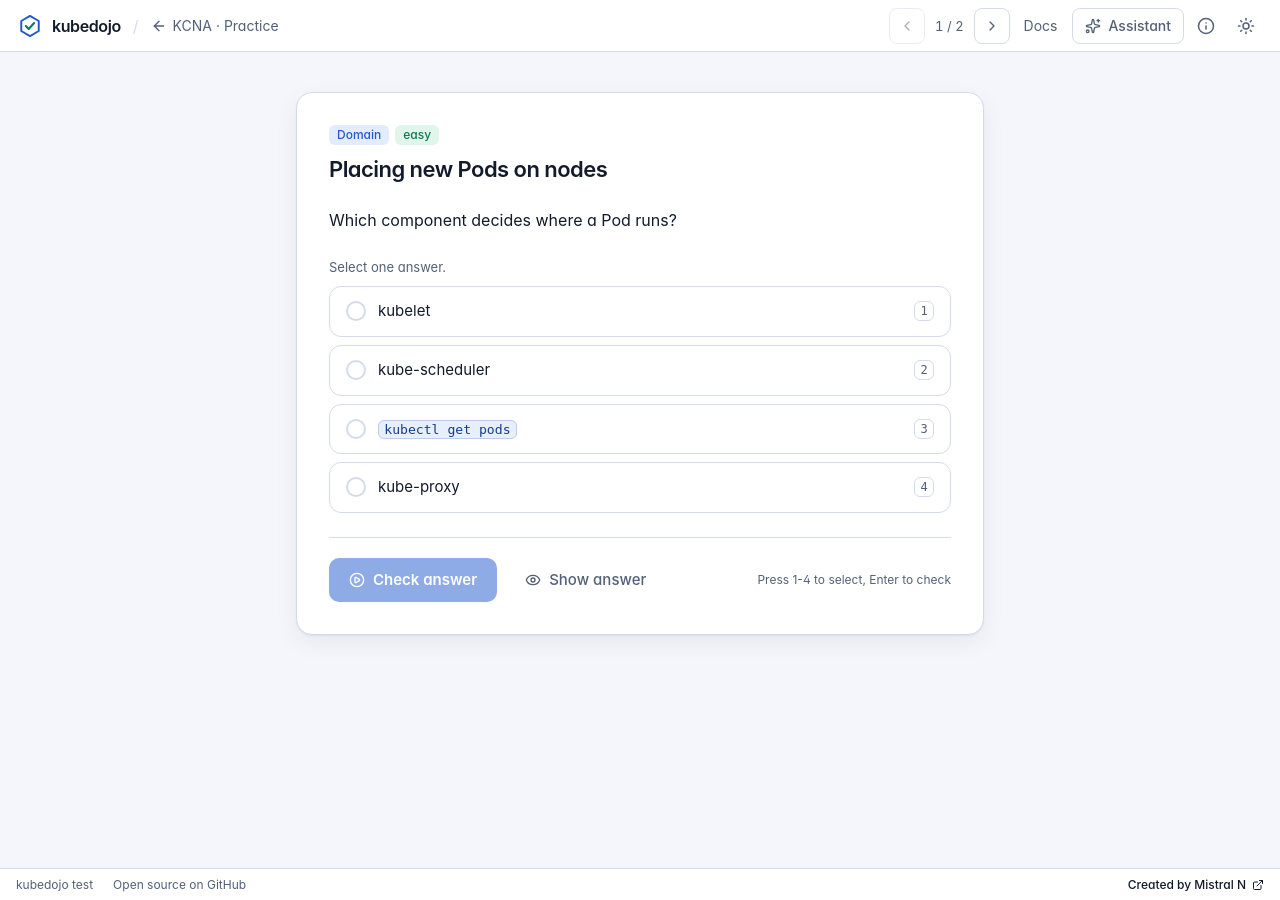
Test: the assistant on a choice question › offers no explanation for a right answer, and suggests the question to ask instead
This screenshot has width=1280, height=900.
Expected: the element showing "kubelet 1 kube-scheduler 2 kubectl get pods 3 kube-proxy 4" is shown, [329,286,951,513]
Press 2
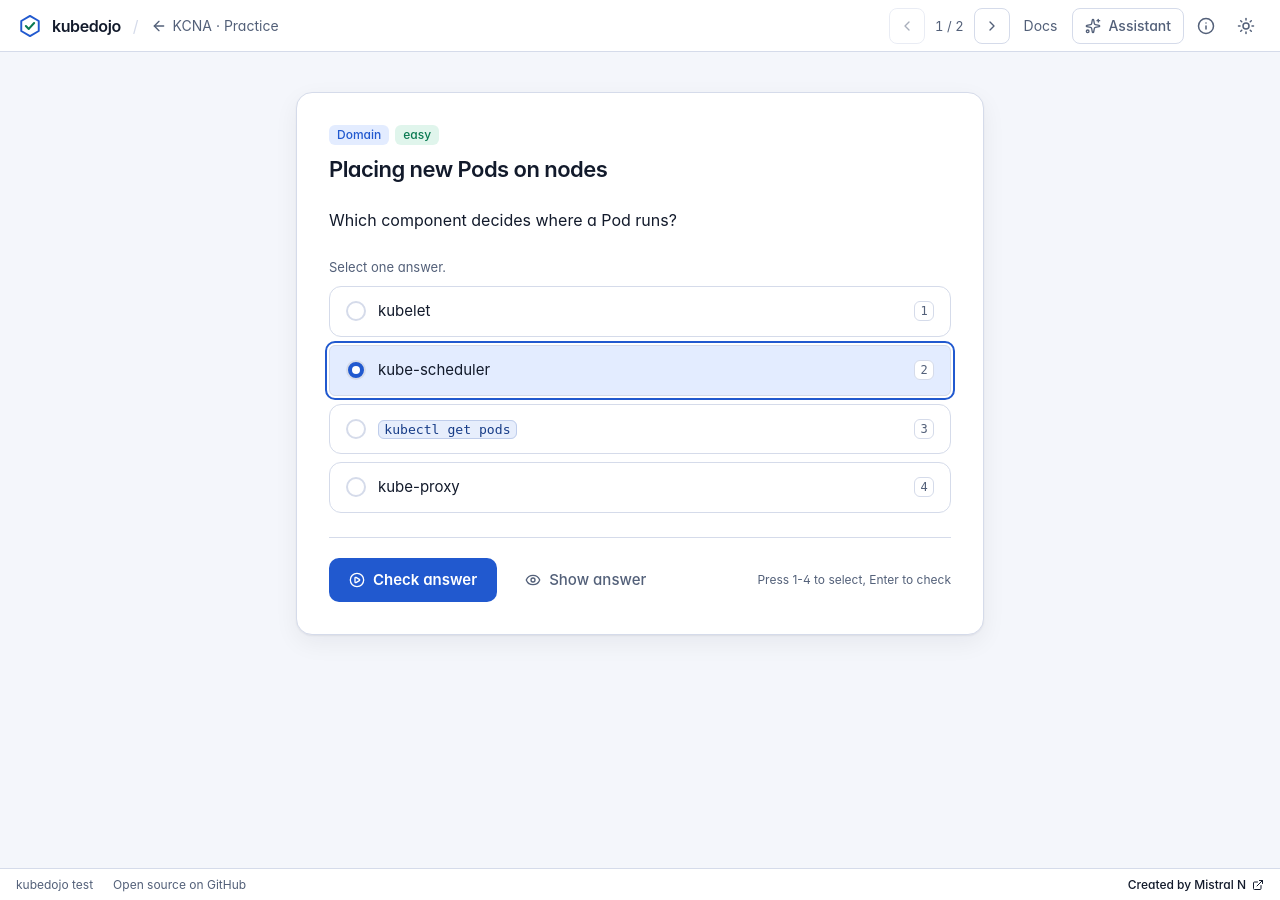
Press Enter
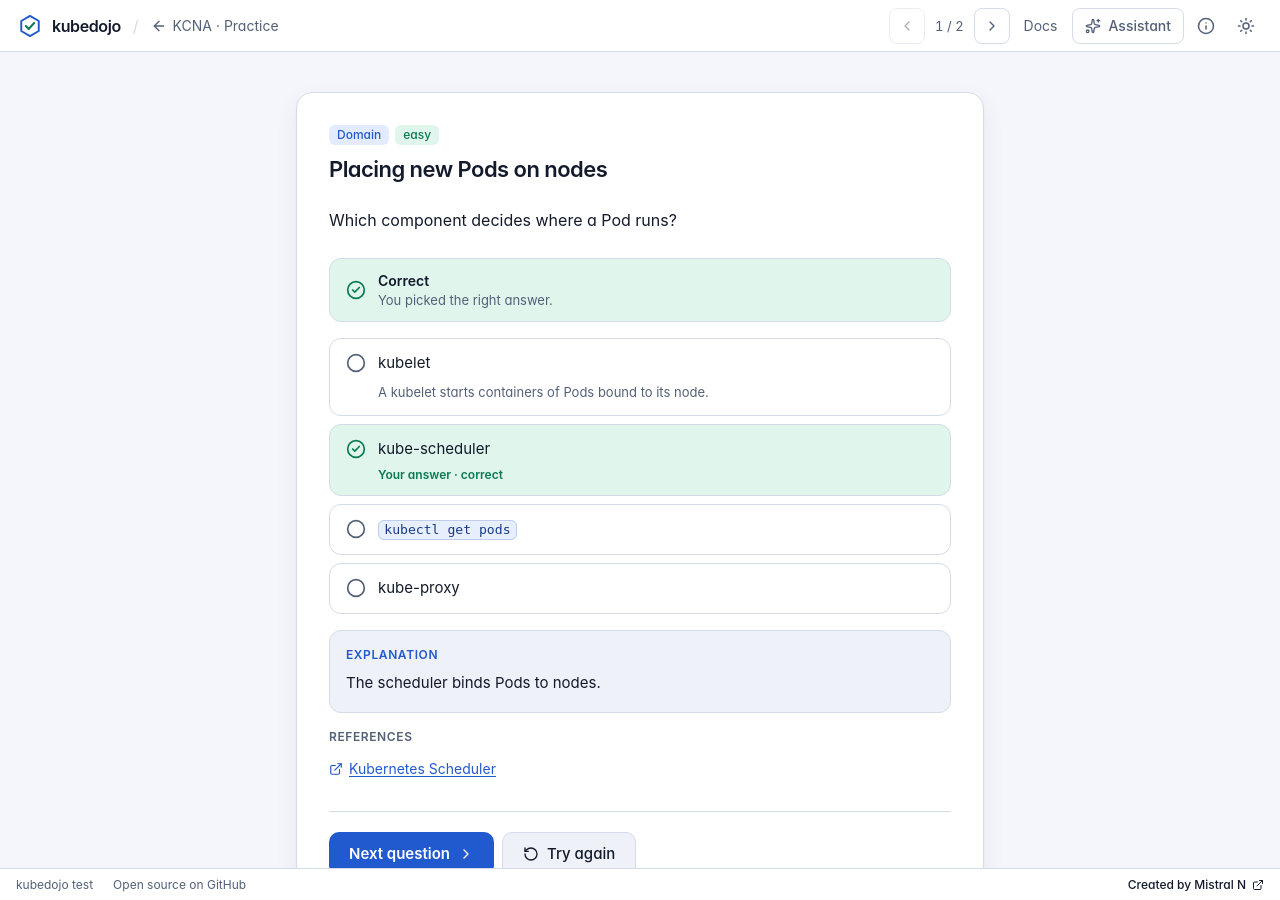
Expected: the text "Correct" is shown, [378,272,429,289]
Click the button "Assistant". click: (1128, 26)
box: [1072,8,1184,44]
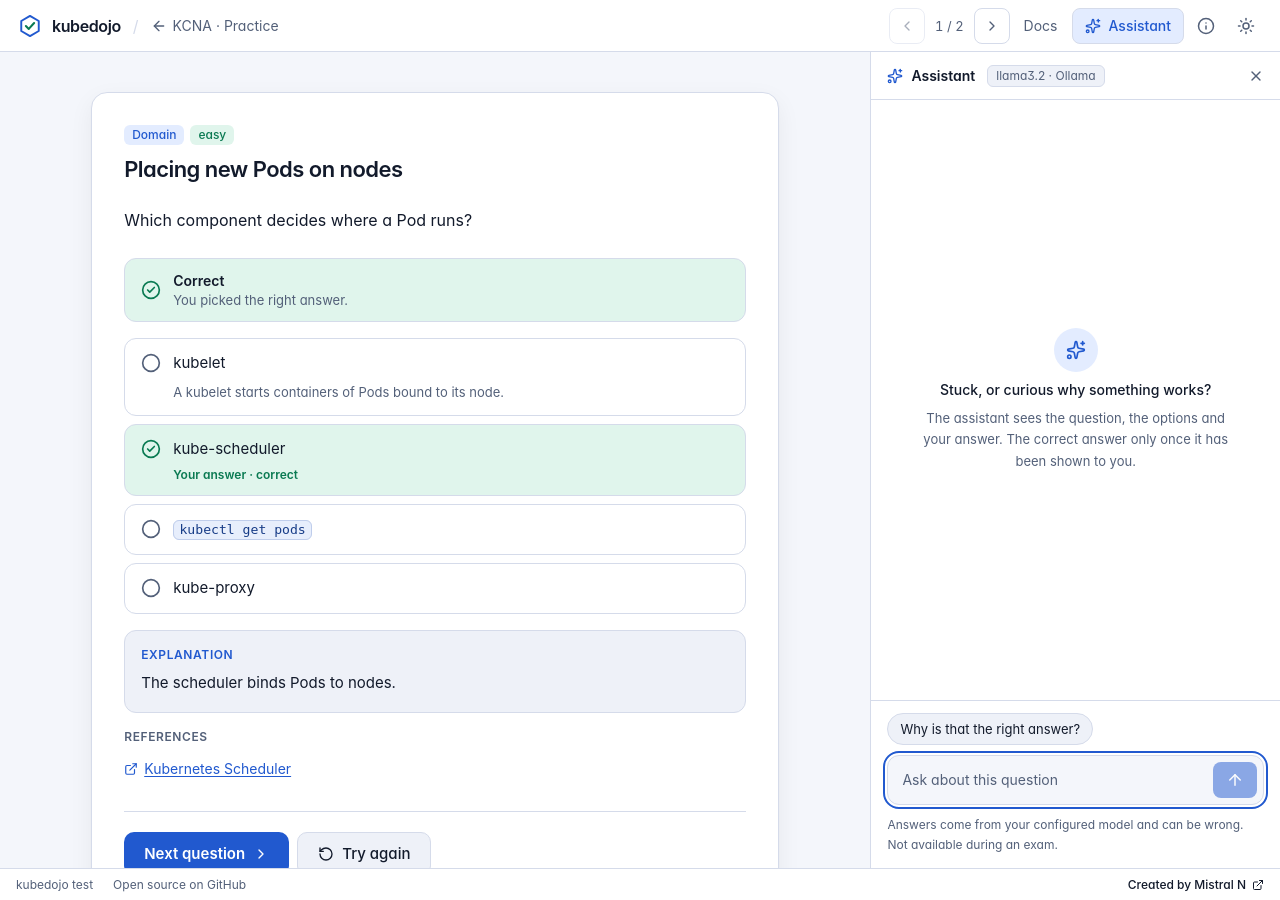
Expected: the button "Why is that the right answer?" is shown, [887,713,1093,745]
